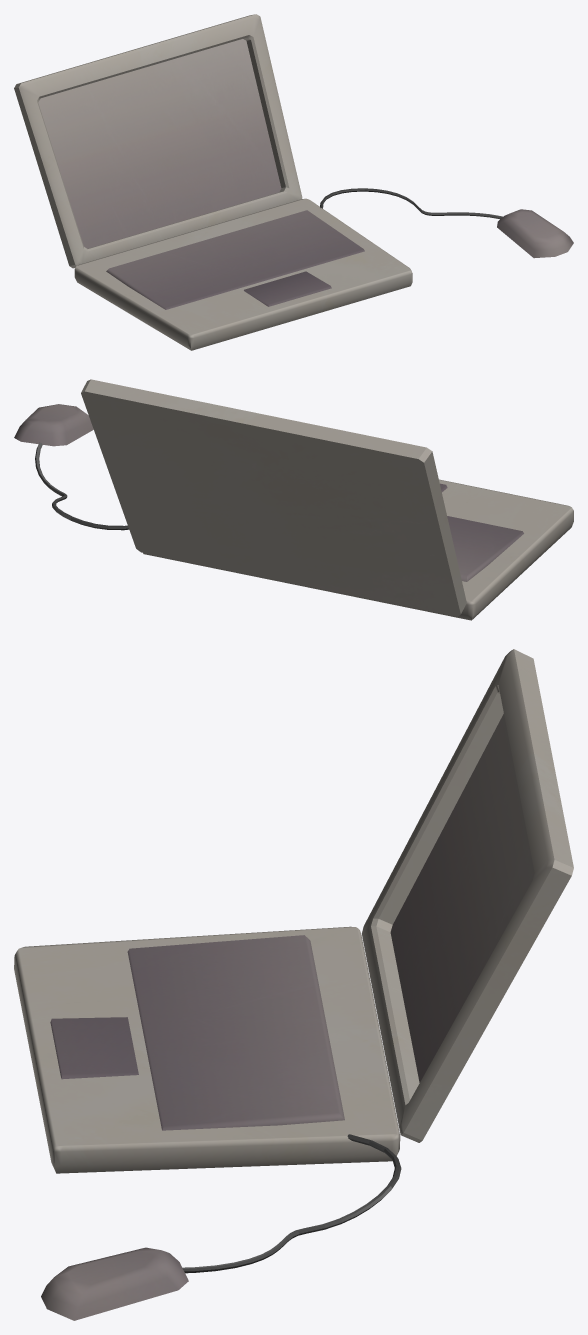
Rendered from SM_Laptop.fbx.
The picture shows the model from 3 angles, top to bottom: view 1: azimuth 30°, elevation 25°; view 2: azimuth 150°, elevation 25°; view 3: azimuth 270°, elevation 25°; orthographic projection. The views are drawn at different scales.
Visible parts, largest first — view 1: SM_Laptop; view 2: SM_Laptop; view 3: SM_Laptop.
Boxes of the visible parts, x1,y1,x2,y2 form: SM_Laptop: [14, 14, 573, 350]; SM_Laptop: [14, 379, 573, 620]; SM_Laptop: [14, 649, 573, 1320].
Size of the model in its own units: 191 by 73.31 by 122.
